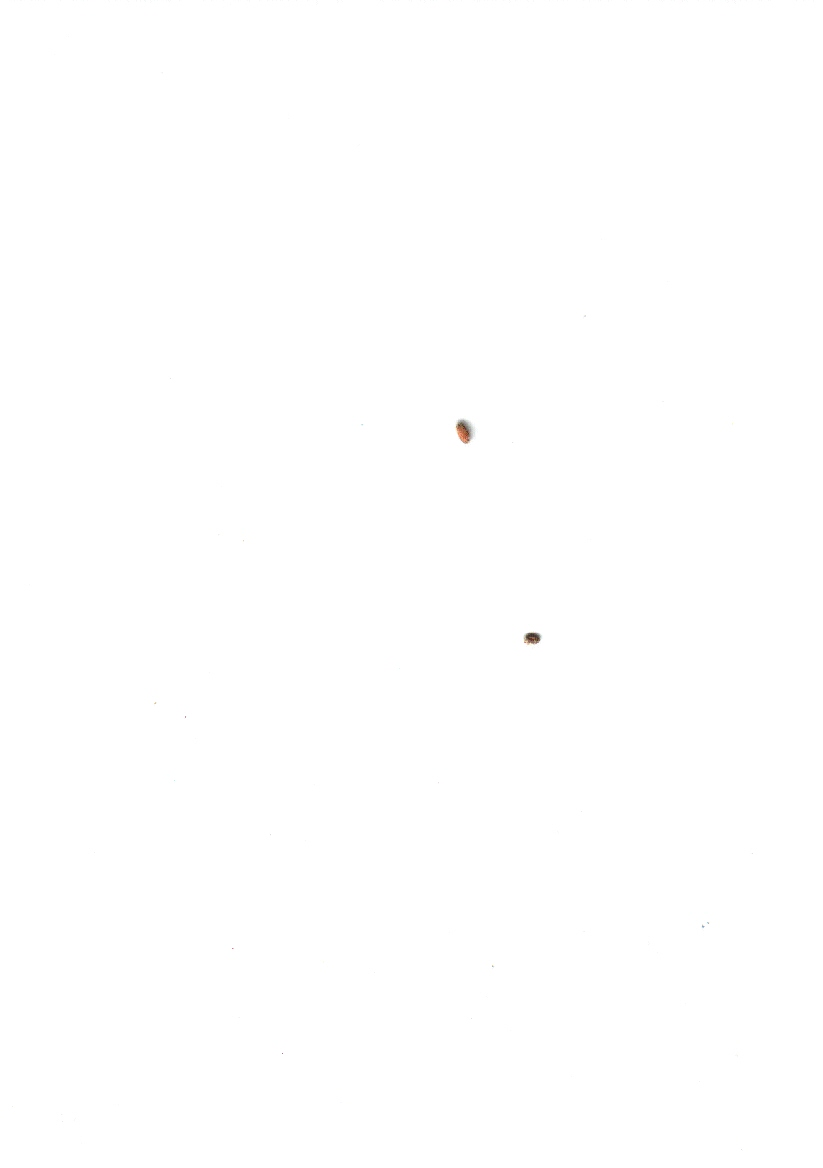grains: (440, 414, 484, 462), (516, 615, 549, 659)
